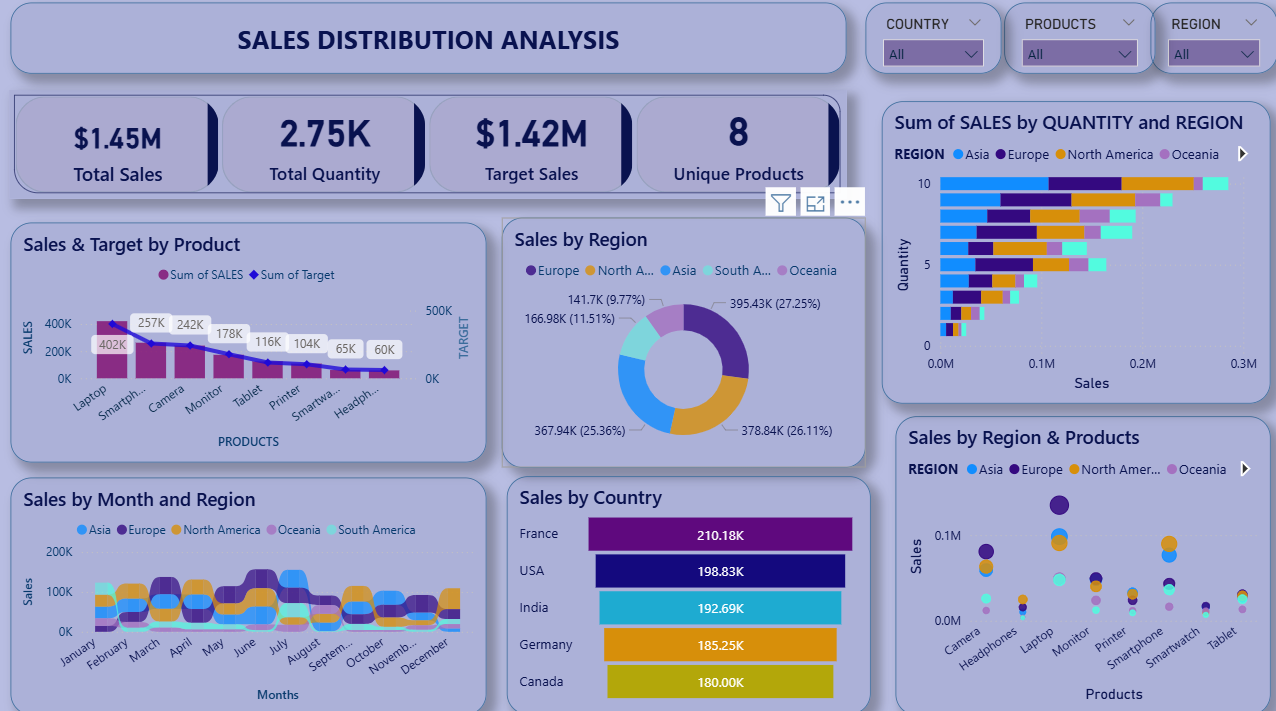

The page's visual inventory and layout, read from the dashboard file:
{"tool":"powerbi","page":{"name":"Dashboard","canvas":[1280,720],"ordinal":0},"visuals":[{"type":"shape","box":[12.5,7.5,836.2,71.2],"z":0},{"type":"cardVisual","fields":{"Data":["sales_distribution_data.Total Sales","sales_distribution_data.Total Quantity","sales_distribution_data.Target Sales","sales_distribution_data.Unique Products"]},"box":[11.2,95,837.5,108.8],"z":1000},{"type":"donutChart","title":"Sales by Region","fields":{"Category":["sales_distribution_data.REGION"],"Y":["Sum(sales_distribution_data.SALES)"]},"box":[503.8,222.5,363.8,250],"z":2000},{"type":"ribbonChart","title":"Sales by Month and Region","fields":{"Category":["sales_distribution_data.DATE.Variation.Date Hierarchy.Month","sales_distribution_data.DATE.Variation.Date Hierarchy.Day"],"Y":["Sum(sales_distribution_data.SALES)"],"Series":["sales_distribution_data.REGION"]},"box":[12.5,482.5,476.2,237.5],"z":3000},{"type":"lineStackedColumnComboChart","title":"Sales & Target by Product","fields":{"Y":["Sum(sales_distribution_data.SALES)"],"Category":["sales_distribution_data.PRODUCT"],"Y2":["Sum(sales_distribution_data.Target)"]},"box":[12.5,227.5,476.2,240],"z":4000},{"type":"funnel","title":"Sales by Country","fields":{"Category":["sales_distribution_data.COUNTRY"],"Y":["Sum(sales_distribution_data.SALES)"]},"box":[508.8,481.2,363.8,238.8],"z":5000},{"type":"slicer","fields":{"Values":["sales_distribution_data.REGION"]},"box":[1152.5,7.5,127.5,71.2],"z":6000},{"type":"slicer","fields":{"Values":["sales_distribution_data.PRODUCT"]},"box":[1006.2,7.5,151.2,71.2],"z":7000},{"type":"slicer","fields":{"Values":["sales_distribution_data.COUNTRY"]},"box":[867.5,7.5,136.2,71.2],"z":8000},{"type":"scatterChart","title":"Sales by Region & Products","fields":{"Y":["Sum(sales_distribution_data.SALES)"],"X":["sales_distribution_data.PRODUCT"],"Series":["sales_distribution_data.REGION"],"Size":["Sum(sales_distribution_data.SALES)"]},"box":[897.6,421,375.2,299.2],"z":9000},{"type":"barChart","fields":{"Y":["Sum(sales_distribution_data.SALES)"],"Category":["sales_distribution_data.QUANTITY"],"Series":["sales_distribution_data.REGION"]},"box":[883.8,106.2,388.8,302.5],"z":9001}]}

Visuals, with their boxes in screenshot pixels (x1, y1, x2, y2), scaled from the page's 1280x720 canvas onto the 1276x711 screenshot:
shape: 12/7/846/78
cardVisual - sales_distribution_data.Total Sales x sales_distribution_data.Total Quantity: 11/94/846/201
"Sales by Region" donutChart: 502/220/865/467
"Sales by Month and Region" ribbonChart: 12/476/487/710
"Sales & Target by Product" lineStackedColumnComboChart: 12/225/487/462
"Sales by Country" funnel: 507/475/870/710
slicer - sales_distribution_data.REGION: 1149/7/1275/78
slicer - sales_distribution_data.PRODUCT: 1003/7/1154/78
slicer - sales_distribution_data.COUNTRY: 865/7/1001/78
"Sales by Region & Products" scatterChart: 895/416/1269/710
barChart - Sum(sales_distribution_data.SALES) x sales_distribution_data.QUANTITY: 881/105/1269/404
